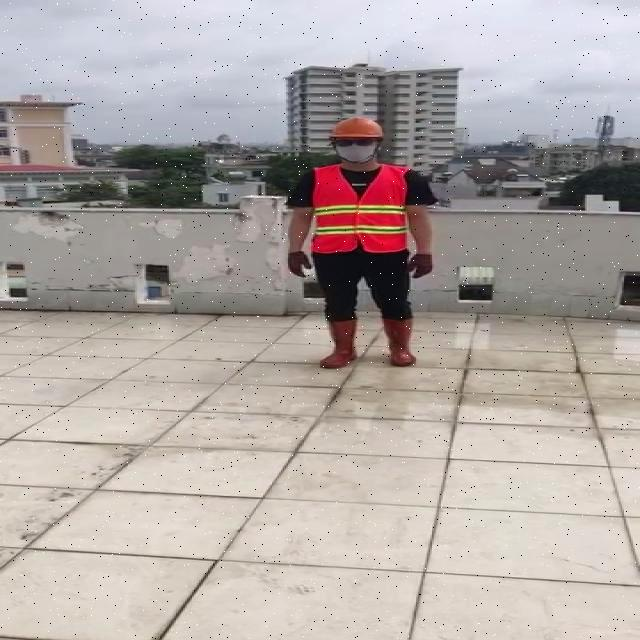Hard_hat: (325, 114, 386, 148)
Vest: (308, 162, 411, 255)
